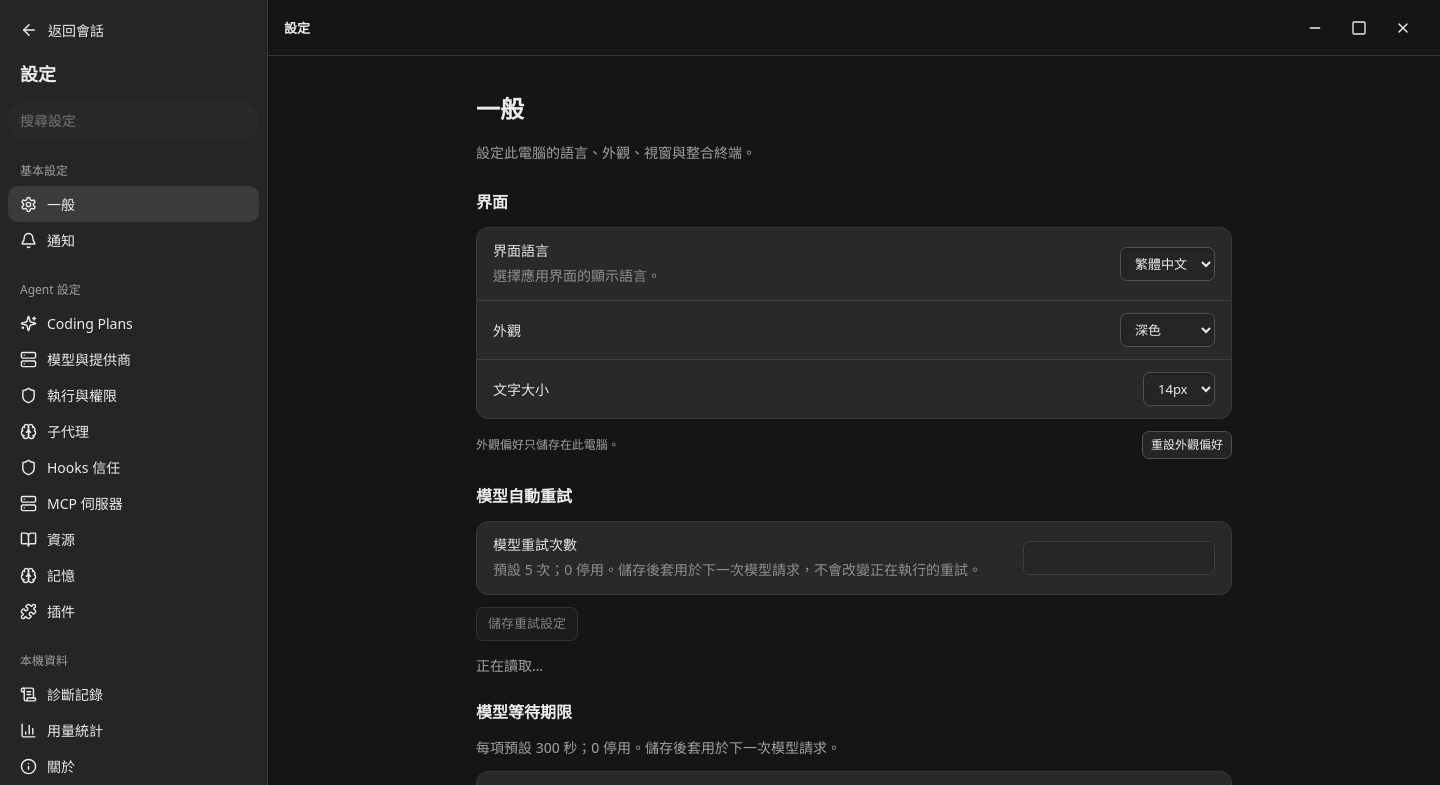
keeps the unfinished Plugins source path after settings navigation
Click the button "插件": point(134, 611) [8, 593, 259, 629]
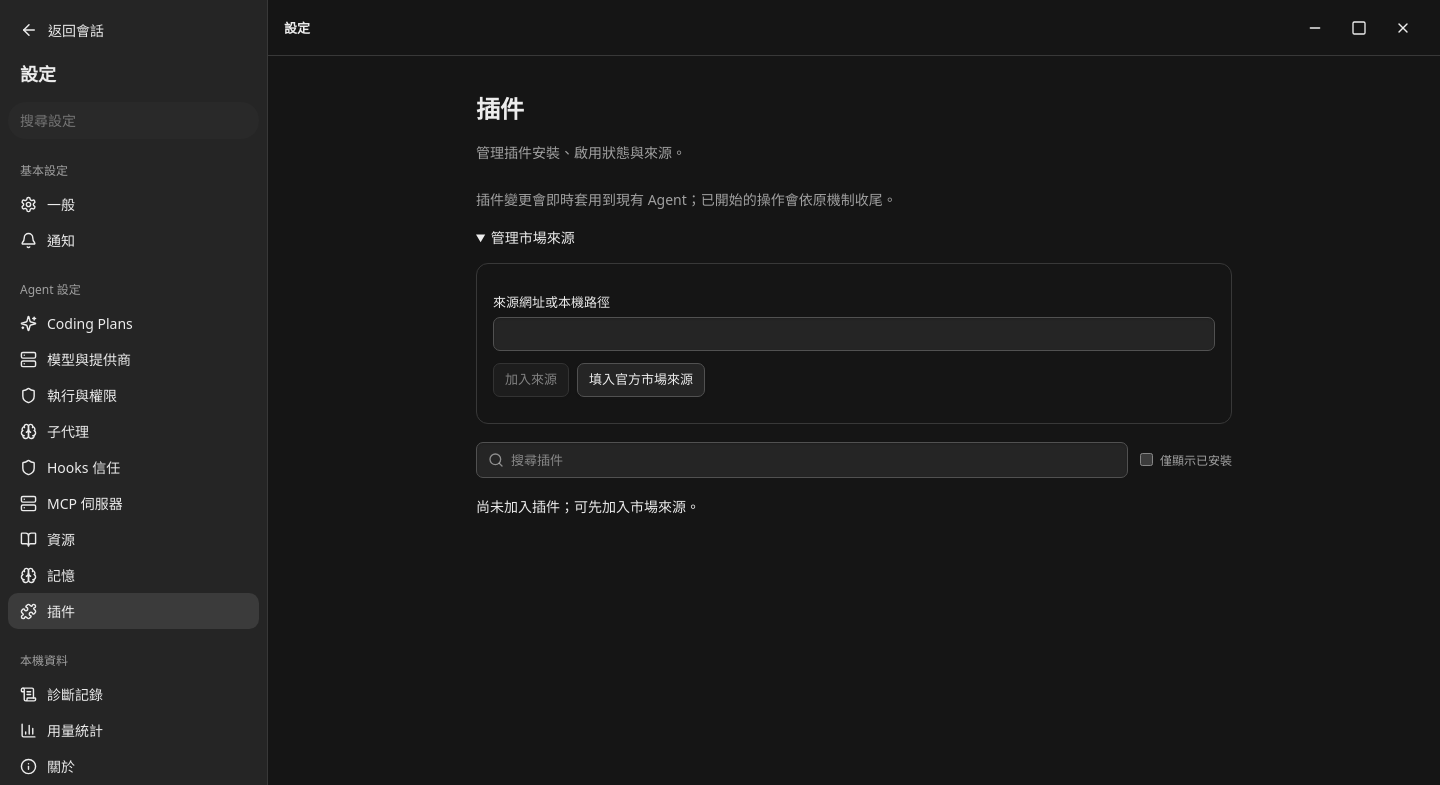
Result: the text "尚未加入插件；可先加入市場來源。" is shown at [476, 497, 700, 516]
In the field labelled "來源網址或本機路徑": point(854, 334) [493, 317, 1215, 351], type "D:/I-harness-main/.tmp/unsent-owned-market"
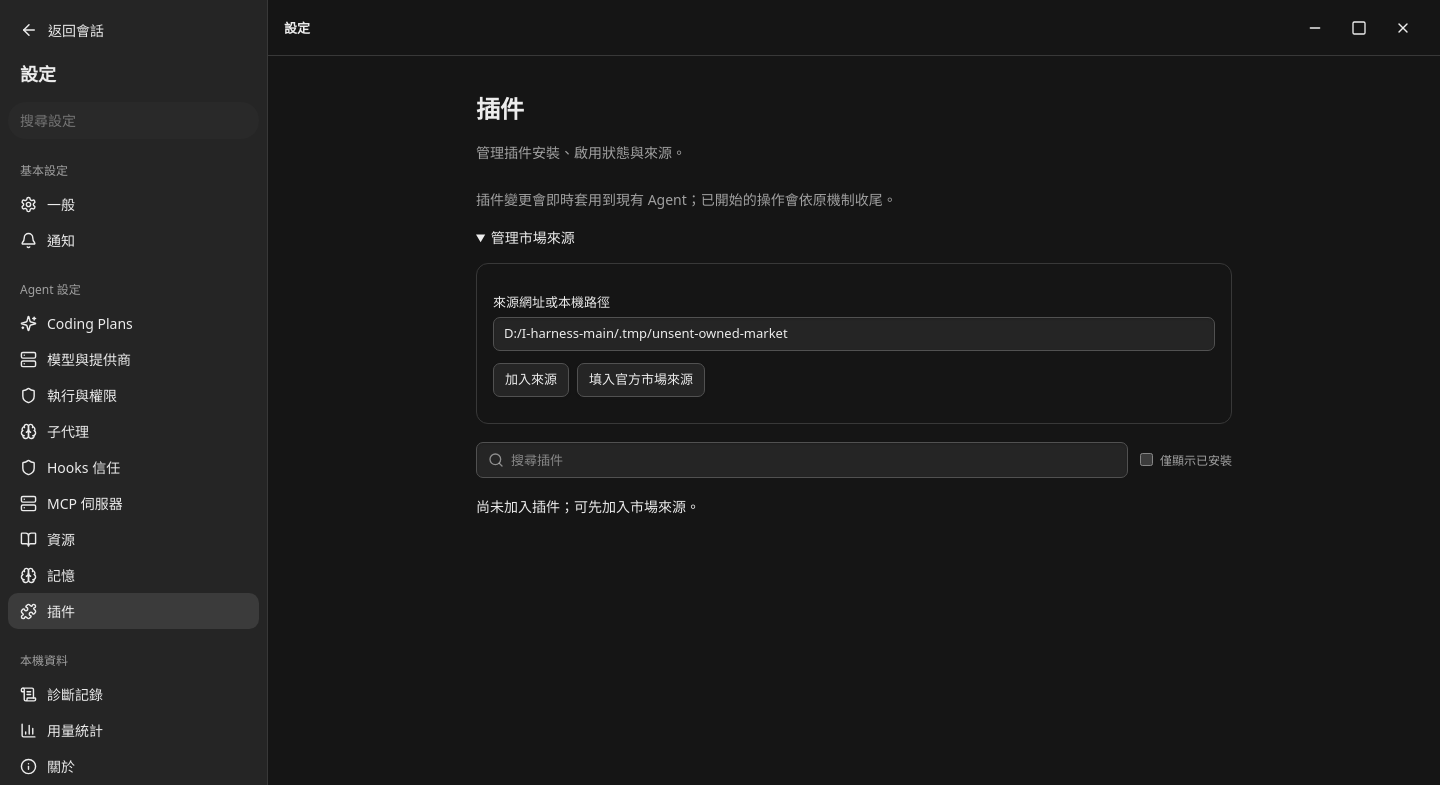
Click the button "一般": point(134, 204) [8, 186, 259, 222]
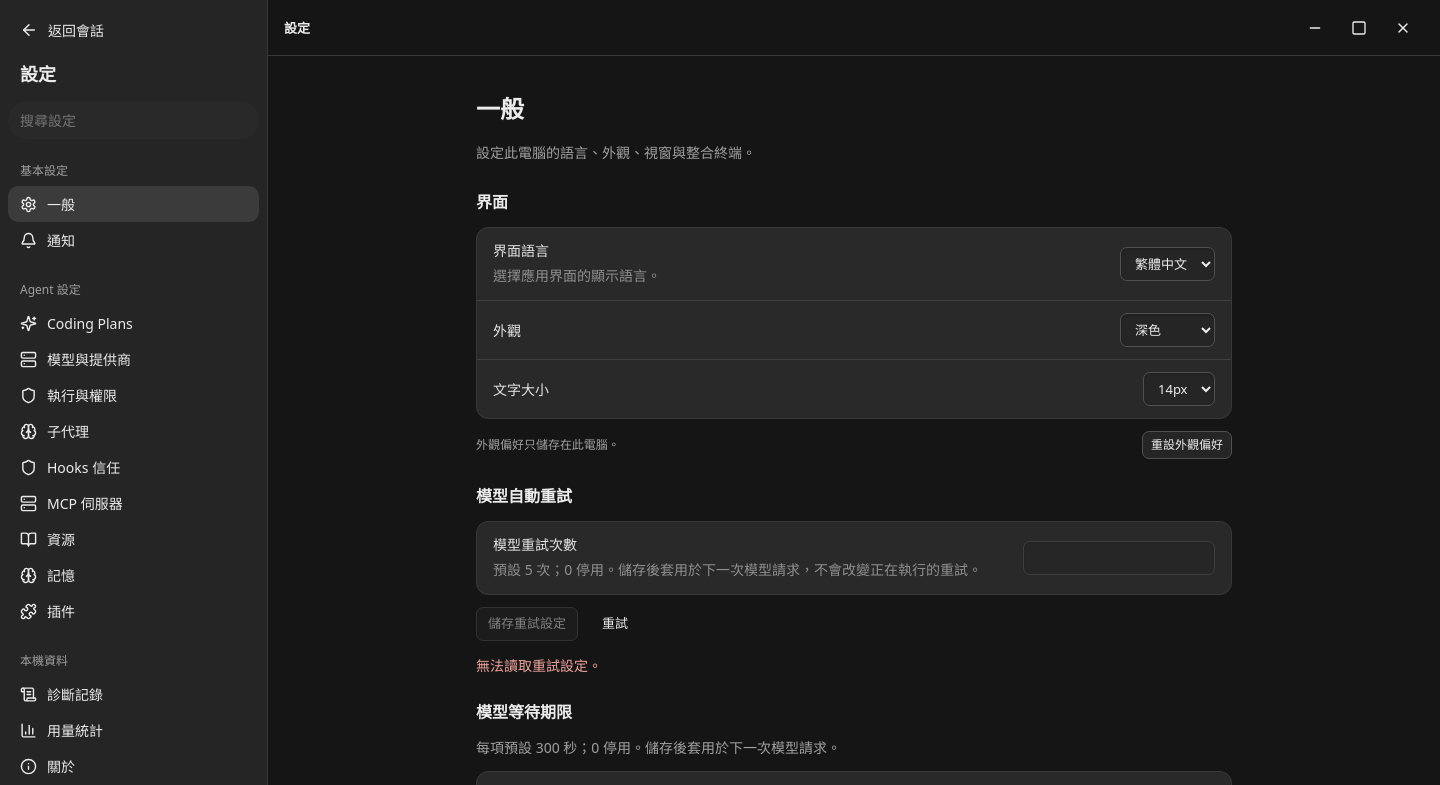
Click the button "插件": point(134, 611) [8, 593, 259, 629]
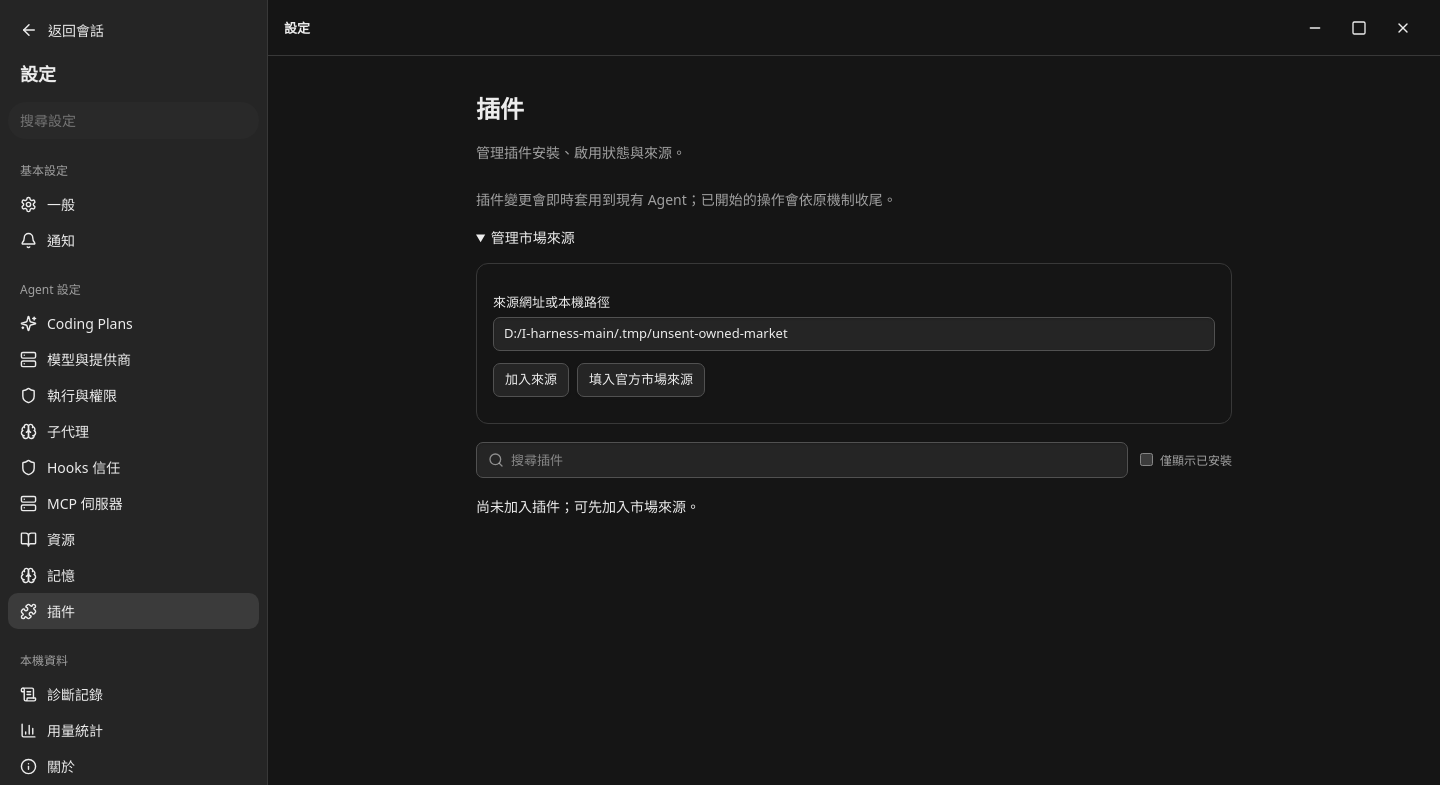
Result: the text "尚未加入插件；可先加入市場來源。" is shown at [476, 497, 700, 516]
